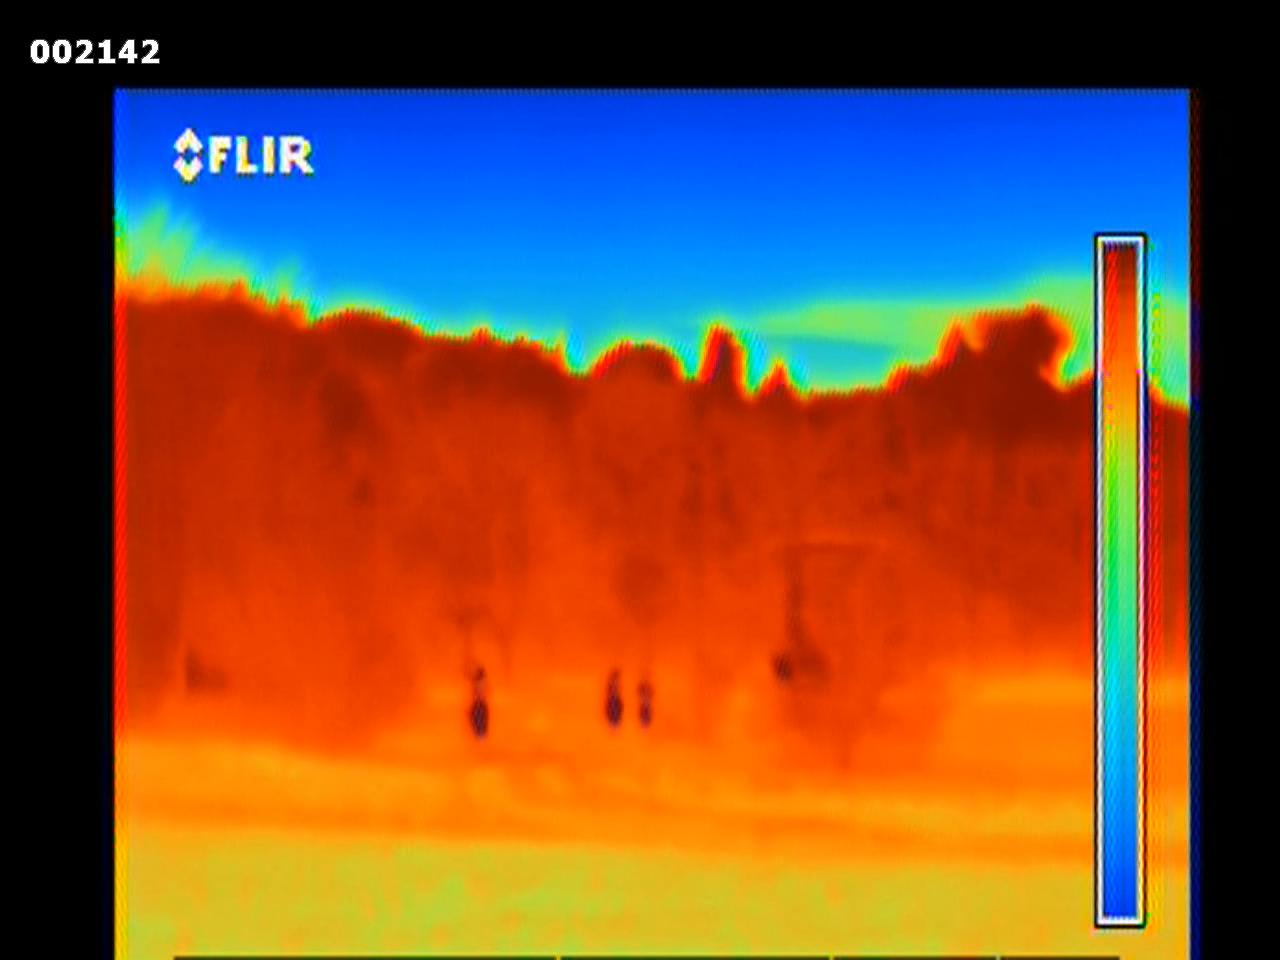persone: (467, 666, 489, 737), (603, 667, 625, 723), (641, 680, 652, 723)
